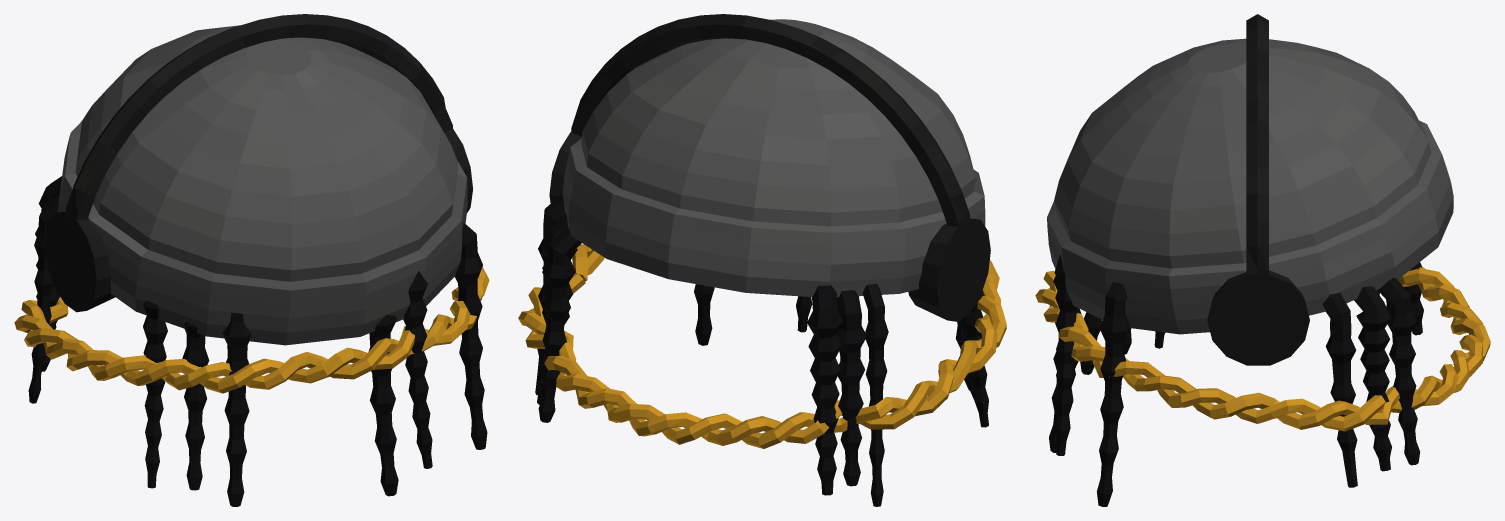
The model's file is Cosmetic_DatSlime_QuadCombo.glb.
The picture shows the model from 3 angles, left to right: view 1: azimuth 30°, elevation 25°; view 2: azimuth 150°, elevation 25°; view 3: azimuth 270°, elevation 25°; orthographic projection. The views are drawn at different scales.
Parts seen in each view (by area): view 1: Cosmetic_DatSlime_QuadCombo_BeanieMat, Cosmetic_DatSlime_QuadCombo_DatSlime_UnderLayer, Cosmetic_DatSlime_QuadCombo_BandMat, Cosmetic_DatSlime_QuadCombo_Cosmetic_Headphone_Cup_Merged; view 2: Cosmetic_DatSlime_QuadCombo_BeanieMat, Cosmetic_DatSlime_QuadCombo_DatSlime_UnderLayer, Cosmetic_DatSlime_QuadCombo_BandMat, Cosmetic_DatSlime_QuadCombo_Cosmetic_Headphone_Cup_Merged; view 3: Cosmetic_DatSlime_QuadCombo_BeanieMat, Cosmetic_DatSlime_QuadCombo_DatSlime_UnderLayer, Cosmetic_DatSlime_QuadCombo_Cosmetic_Headphone_Cup_Merged, Cosmetic_DatSlime_QuadCombo_BandMat.
Part boxes in pixels (left/top/right/bottom): Cosmetic_DatSlime_QuadCombo_BeanieMat: left=57, top=25, right=467, bottom=345; Cosmetic_DatSlime_QuadCombo_DatSlime_UnderLayer: left=14, top=176, right=489, bottom=506; Cosmetic_DatSlime_QuadCombo_BandMat: left=65, top=14, right=452, bottom=220; Cosmetic_DatSlime_QuadCombo_Cosmetic_Headphone_Cup_Merged: left=44, top=129, right=472, bottom=312; Cosmetic_DatSlime_QuadCombo_BeanieMat: left=562, top=19, right=985, bottom=297; Cosmetic_DatSlime_QuadCombo_DatSlime_UnderLayer: left=518, top=193, right=1006, bottom=506; Cosmetic_DatSlime_QuadCombo_BandMat: left=571, top=14, right=969, bottom=226; Cosmetic_DatSlime_QuadCombo_Cosmetic_Headphone_Cup_Merged: left=549, top=132, right=990, bottom=321; Cosmetic_DatSlime_QuadCombo_BeanieMat: left=1047, top=38, right=1453, bottom=334; Cosmetic_DatSlime_QuadCombo_DatSlime_UnderLayer: left=1035, top=254, right=1490, bottom=506; Cosmetic_DatSlime_QuadCombo_Cosmetic_Headphone_Cup_Merged: left=1207, top=270, right=1309, bottom=365; Cosmetic_DatSlime_QuadCombo_BandMat: left=1246, top=14, right=1268, bottom=274.
Bounding box in the file's own units: 1.35 × 1.29 × 1.33.
